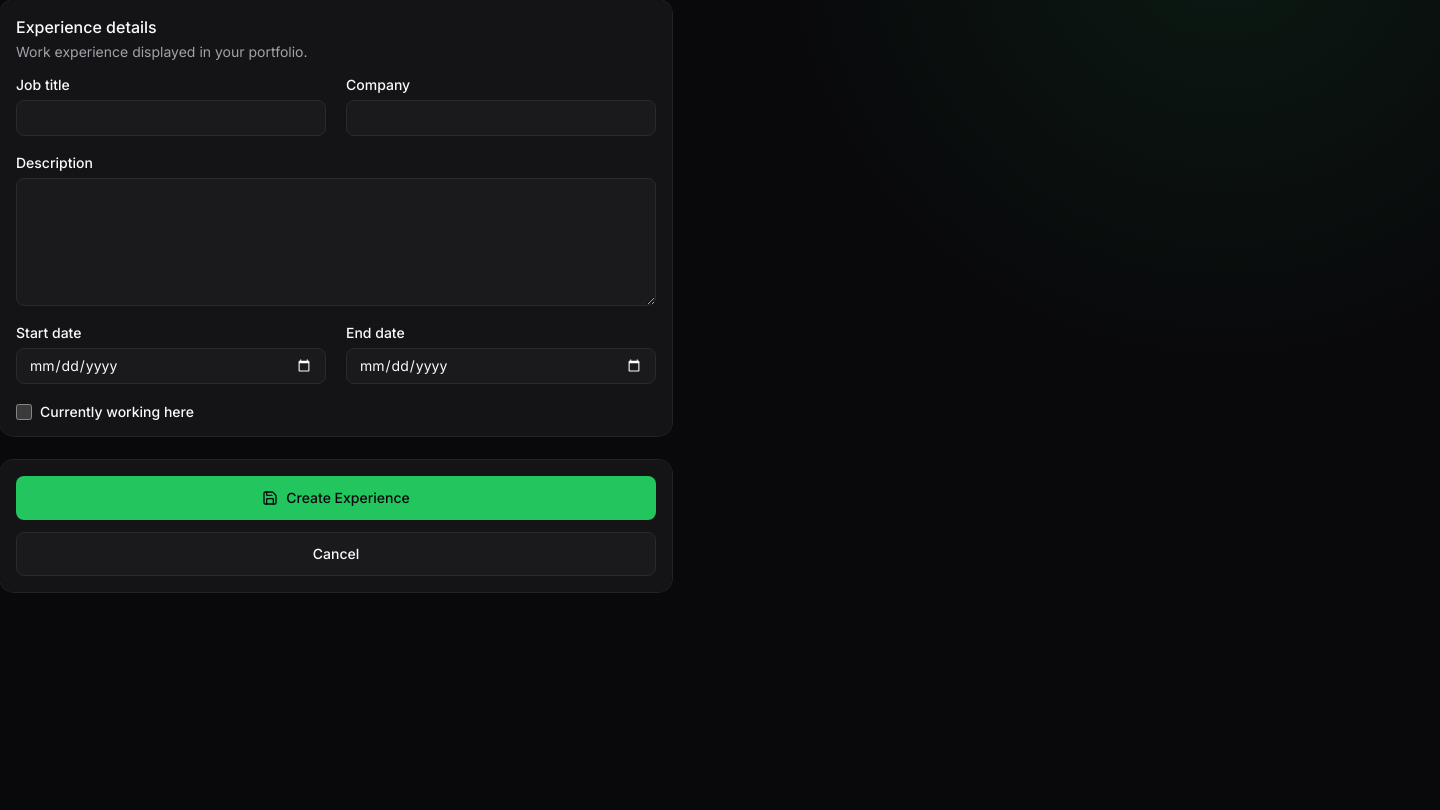
Test: ExperienceForm › blocks submission and shows errors when required fields are empty
This screenshot has width=1440, height=810.
Click the button "Create Experience": (336,498) [16, 476, 656, 520]
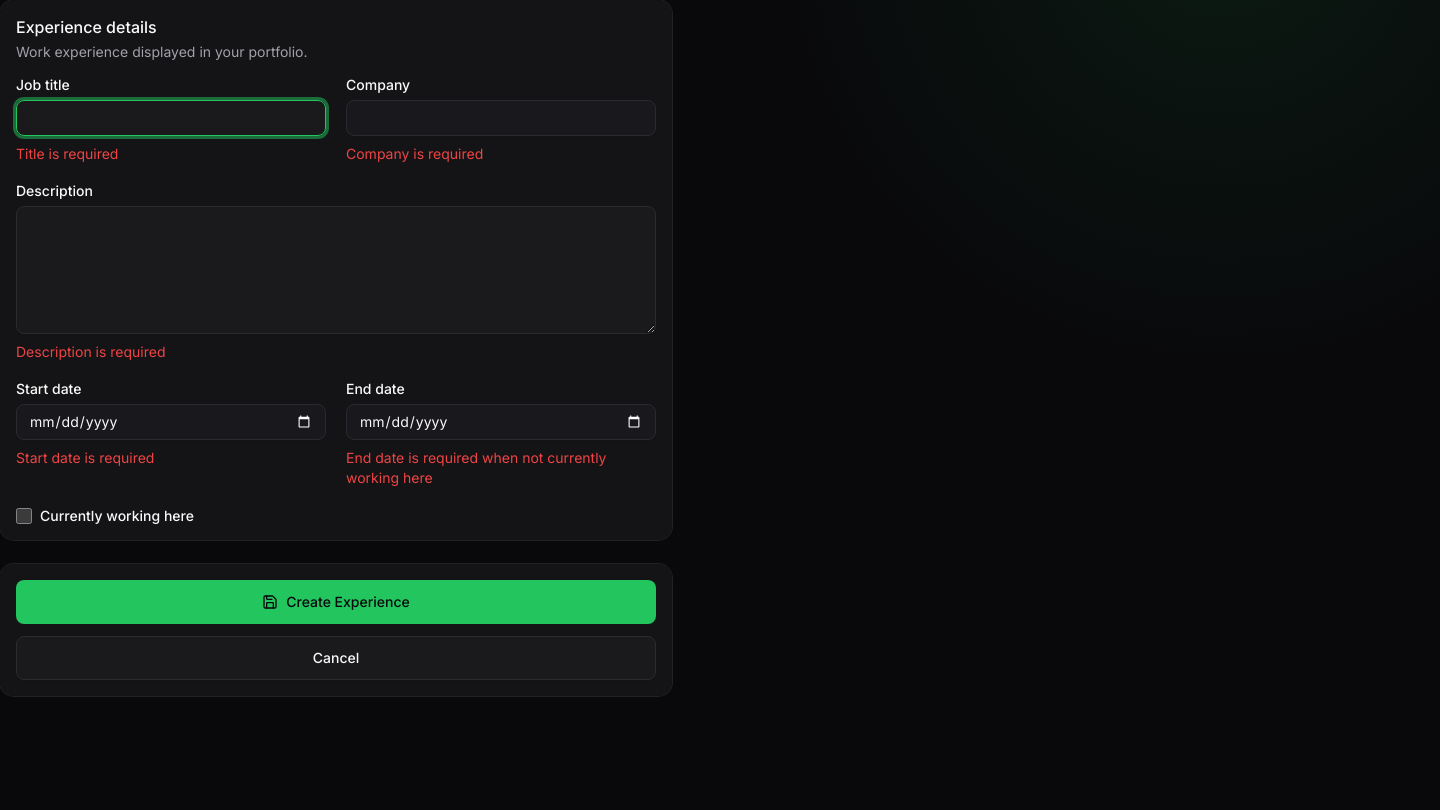
Now the text "Title is required" is shown, box [16, 145, 118, 162]
